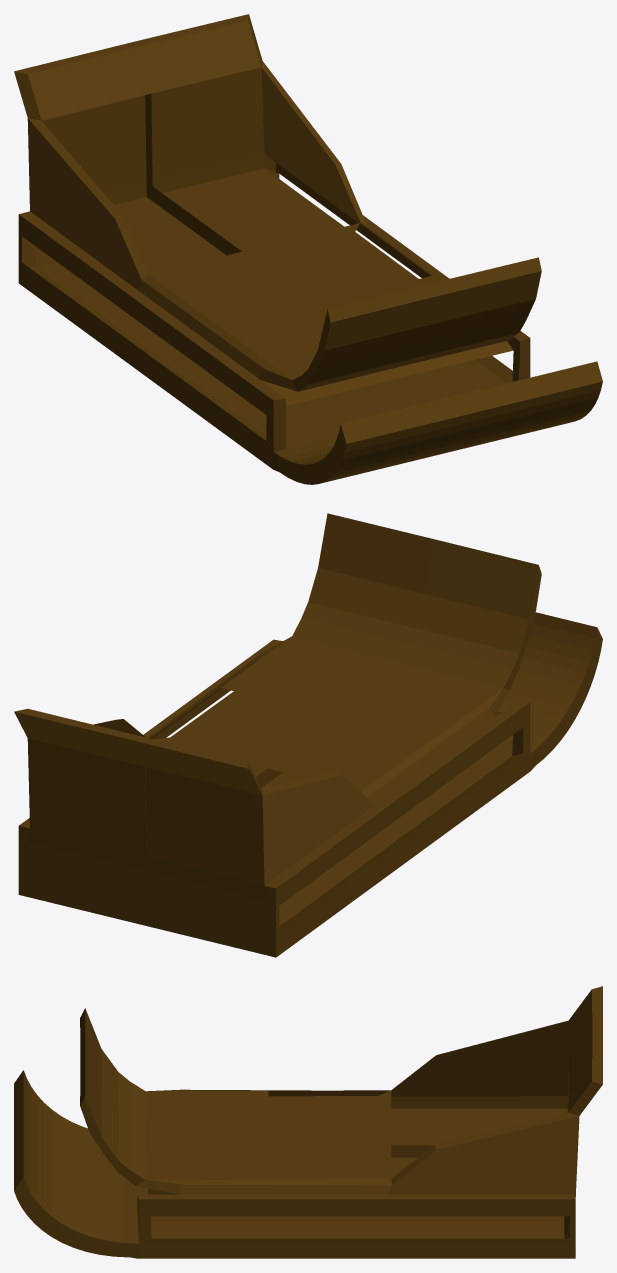
Rendered from sleigh.glb.
The picture shows the model from 3 angles, top to bottom: view 1: azimuth 30°, elevation 25°; view 2: azimuth 150°, elevation 25°; view 3: azimuth 270°, elevation 25°; orthographic projection. The views are drawn at different scales.
Parts seen in each view (by area): view 1: Cube; view 2: Cube; view 3: Cube.
Part boxes in pixels (left/top/right/bottom): Cube: left=14, top=14, right=602, bottom=484; Cube: left=14, top=513, right=602, bottom=957; Cube: left=14, top=986, right=602, bottom=1258.
Bounding box in the file's own units: 4.15 × 3.05 × 9.59.
Materials: 1 (1 with a texture image).
